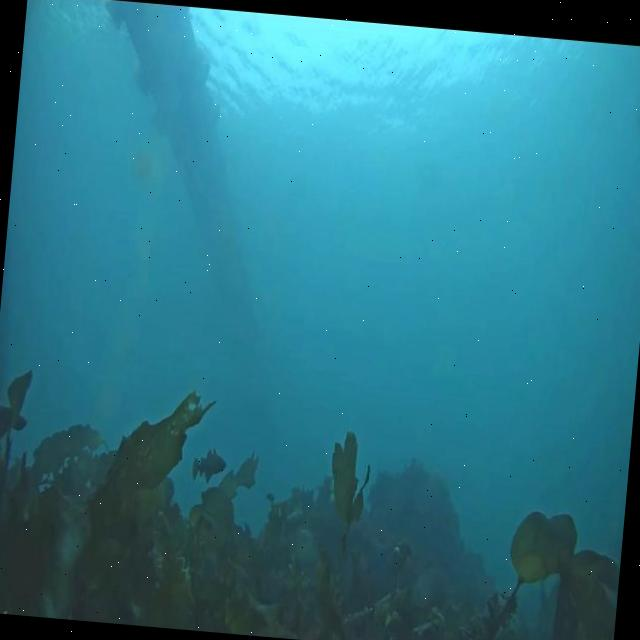fish: (189, 444, 229, 483)
